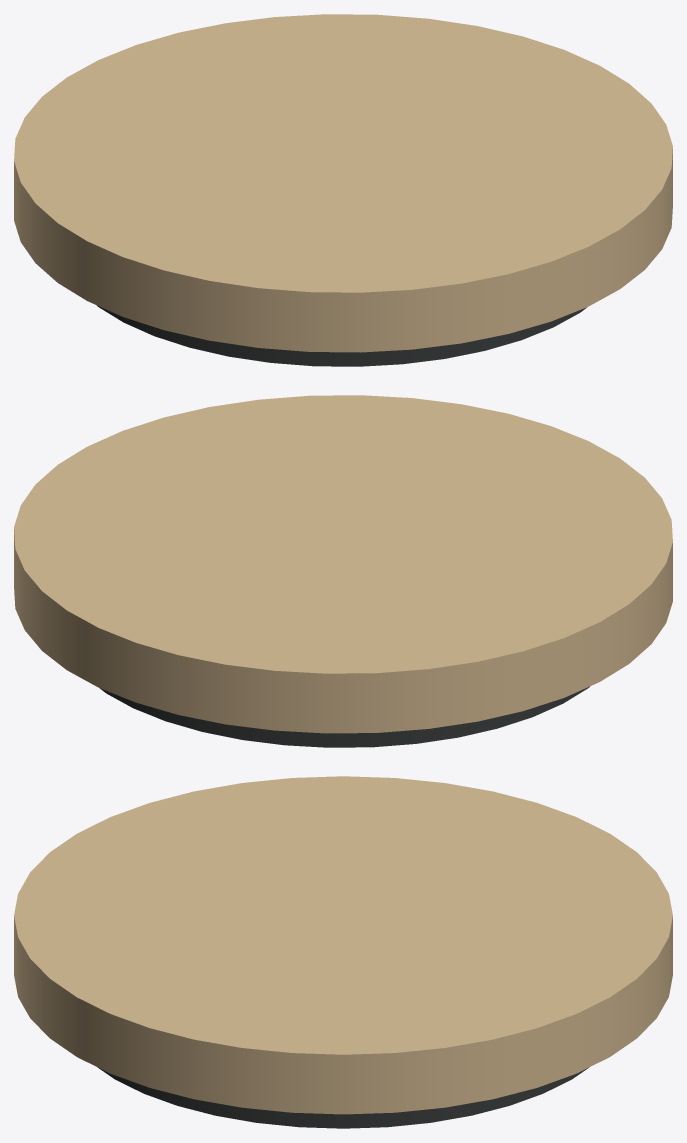
File: candlemaking-and-soap-workshop-candle-lid-885c3bae__30665.glb
3 views of the same model, one above another, from view 1: azimuth 30°, elevation 25°; view 2: azimuth 150°, elevation 25°; view 3: azimuth 270°, elevation 25° (orthographic).
Visible parts, largest first — view 1: candle-lid; view 2: candle-lid; view 3: candle-lid.
Part boxes in pixels (x1,y1,x2,y2): candle-lid: (14, 14, 672, 366); candle-lid: (14, 395, 672, 747); candle-lid: (14, 776, 672, 1128).
Bounding box in the file's own units: 0.14 × 0.022 × 0.14.
